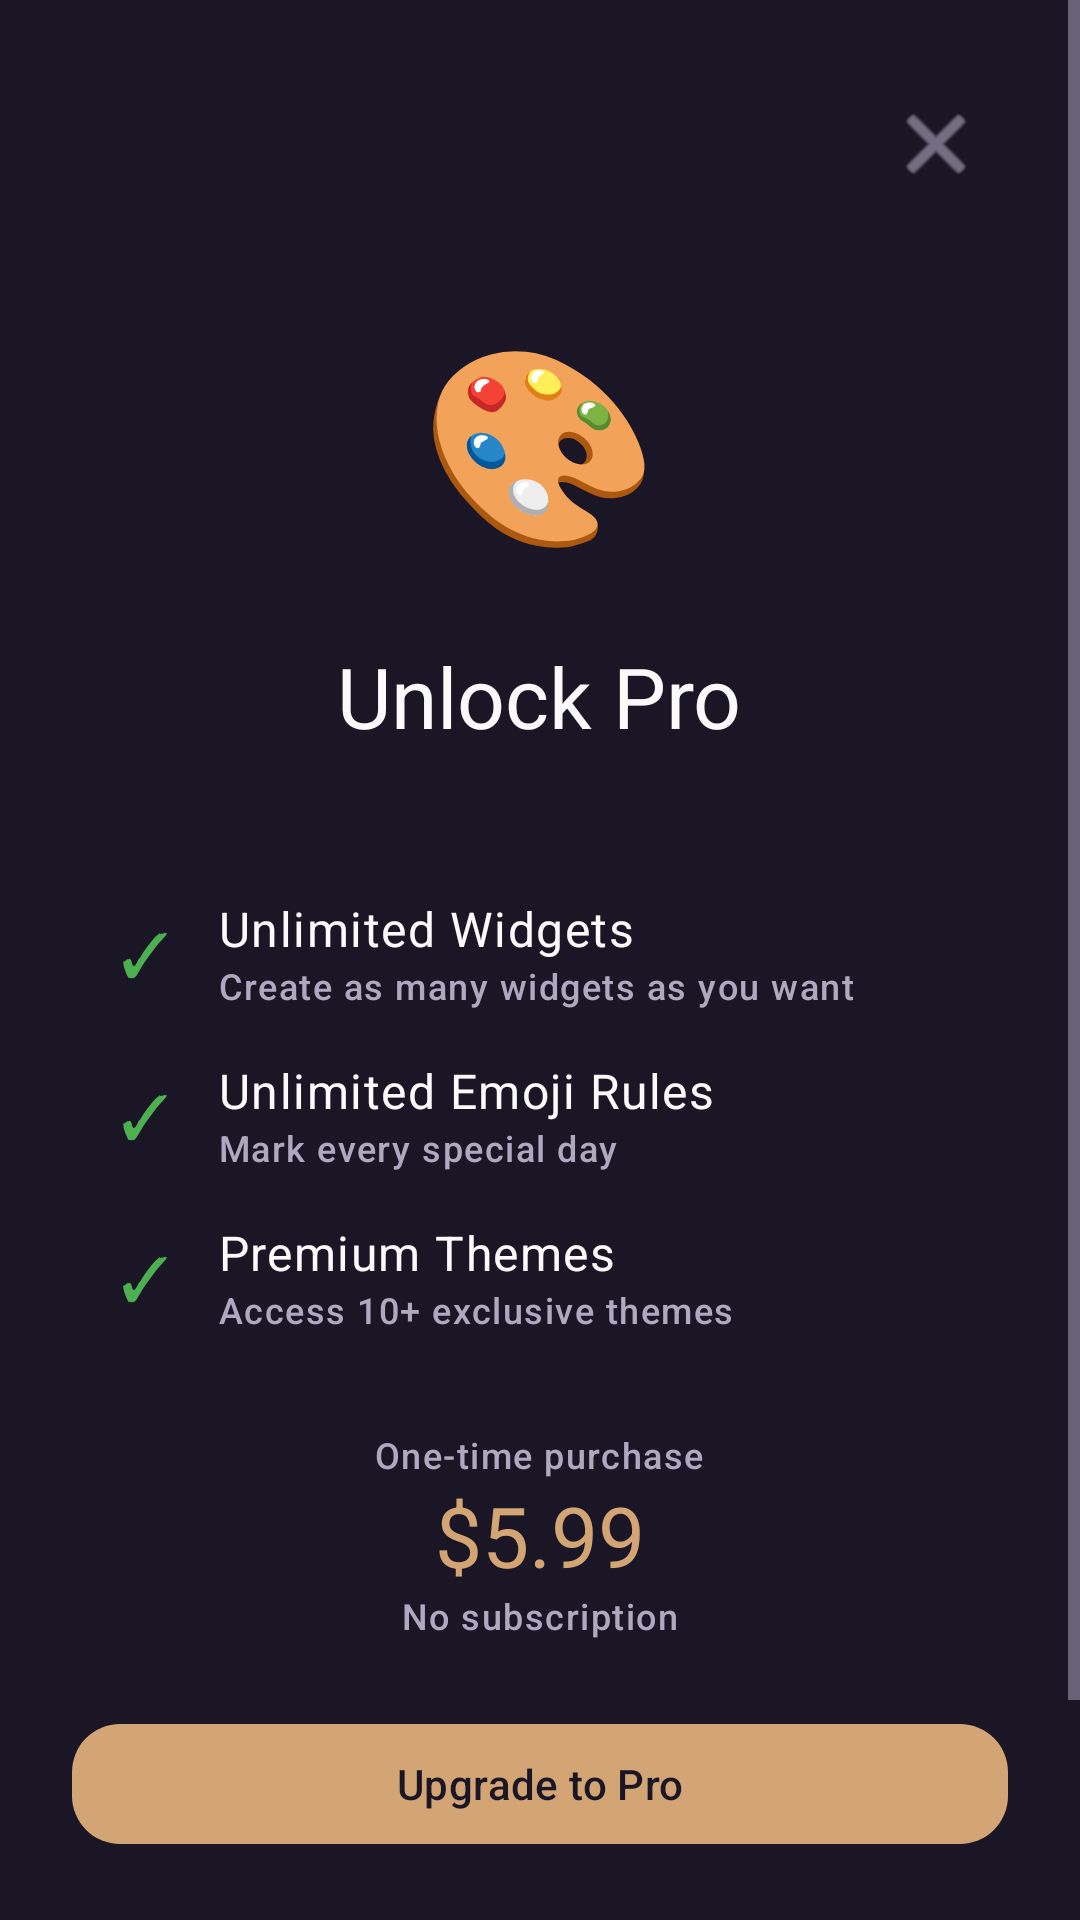

Screen size 1080 x 1920. Icon name, then its center in pixels as point (x, y):
Cancel: point (936, 144)
